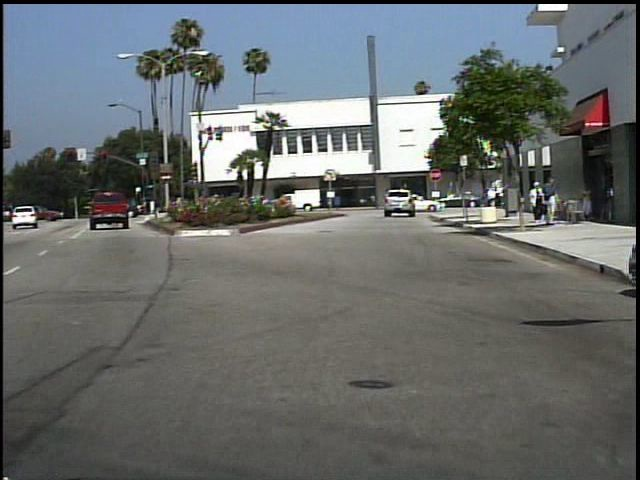person: (541, 176, 560, 231), (485, 183, 508, 215), (578, 181, 593, 223), (529, 180, 543, 223), (370, 189, 391, 217)
